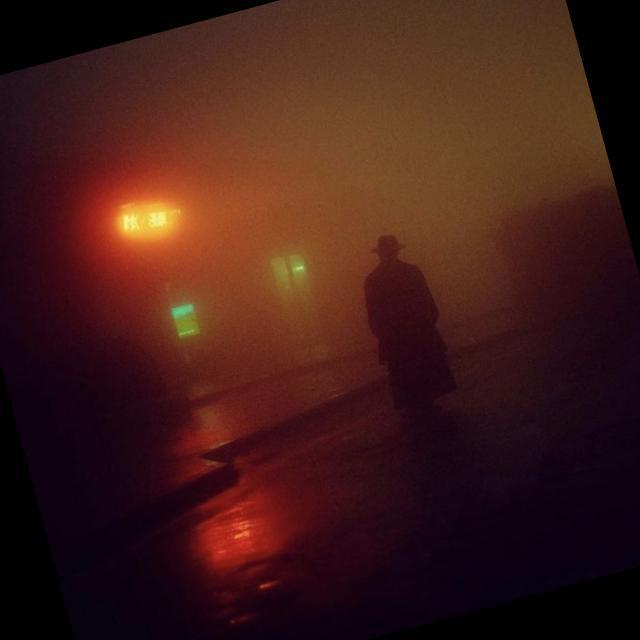on: (100, 183, 222, 254)
